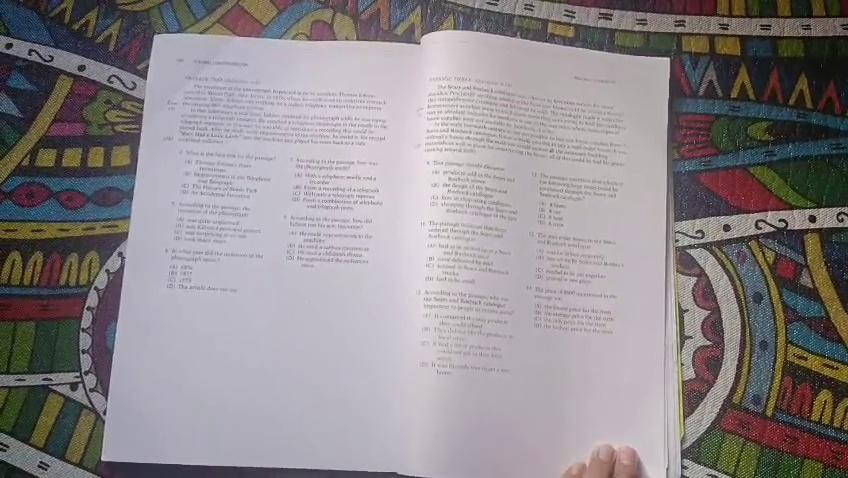Kertas: (154, 43, 471, 460), (414, 63, 670, 437)
